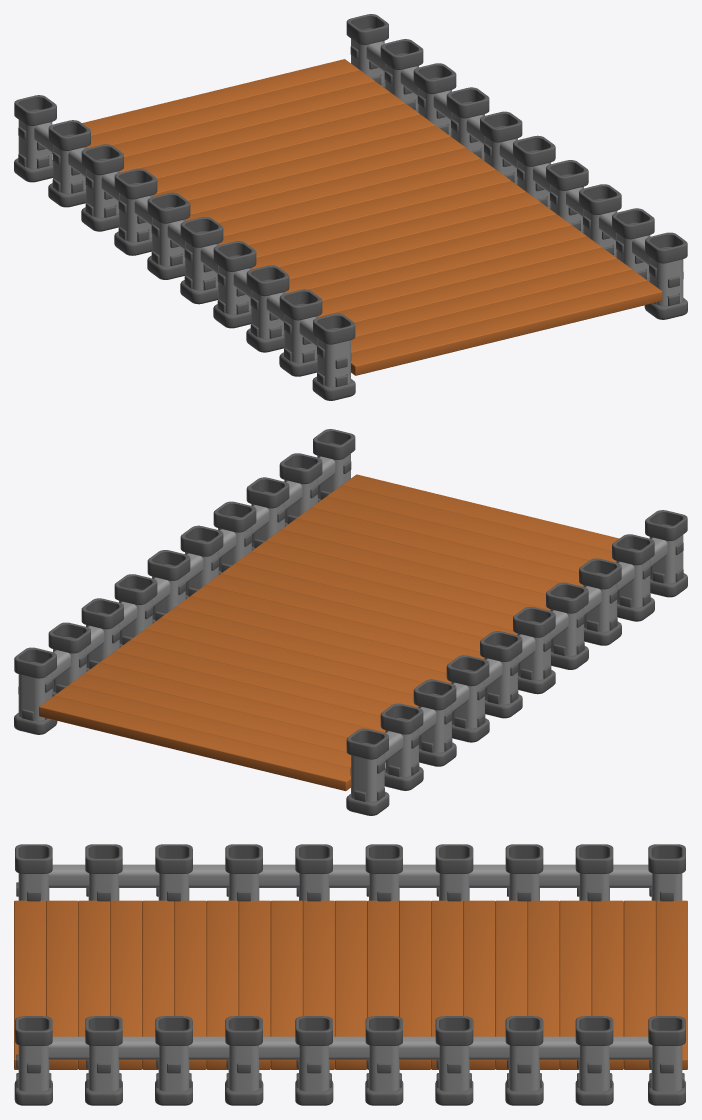
The model's file is bridge stone.fbx.
The picture shows the model from 3 angles, top to bottom: view 1: azimuth 30°, elevation 25°; view 2: azimuth 150°, elevation 25°; view 3: azimuth 270°, elevation 25°; orthographic projection. The views are drawn at different scales.
Parts seen in each view (by area): view 1: Cube.263; view 2: Cube.263; view 3: Cube.263.
Boxes of the visible parts, <box> form: Cube.263: <box>14,14,687,400</box>; Cube.263: <box>14,429,687,815</box>; Cube.263: <box>14,844,687,1105</box>.
Bounding box in the file's own units: 57665 × 10712 × 87344.
